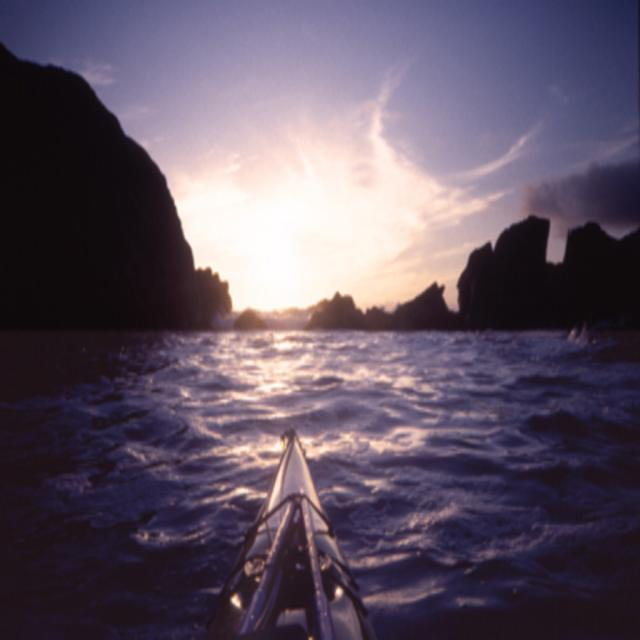Boat: (191, 426, 382, 640)
